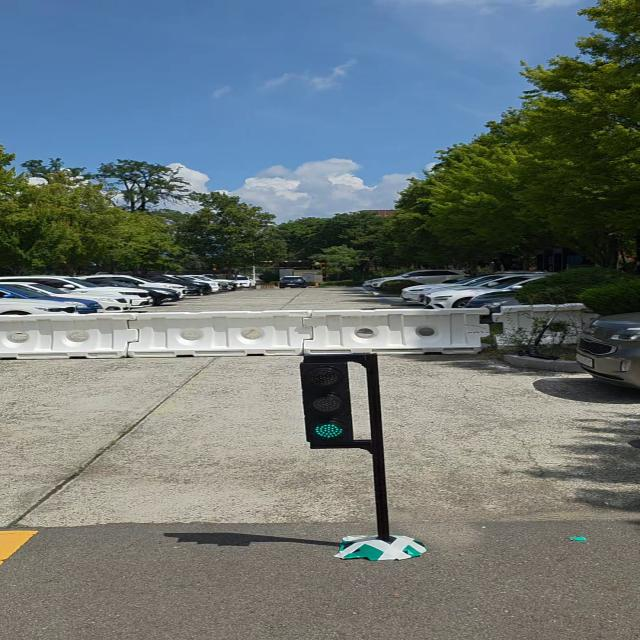green: (300, 356, 356, 452)
